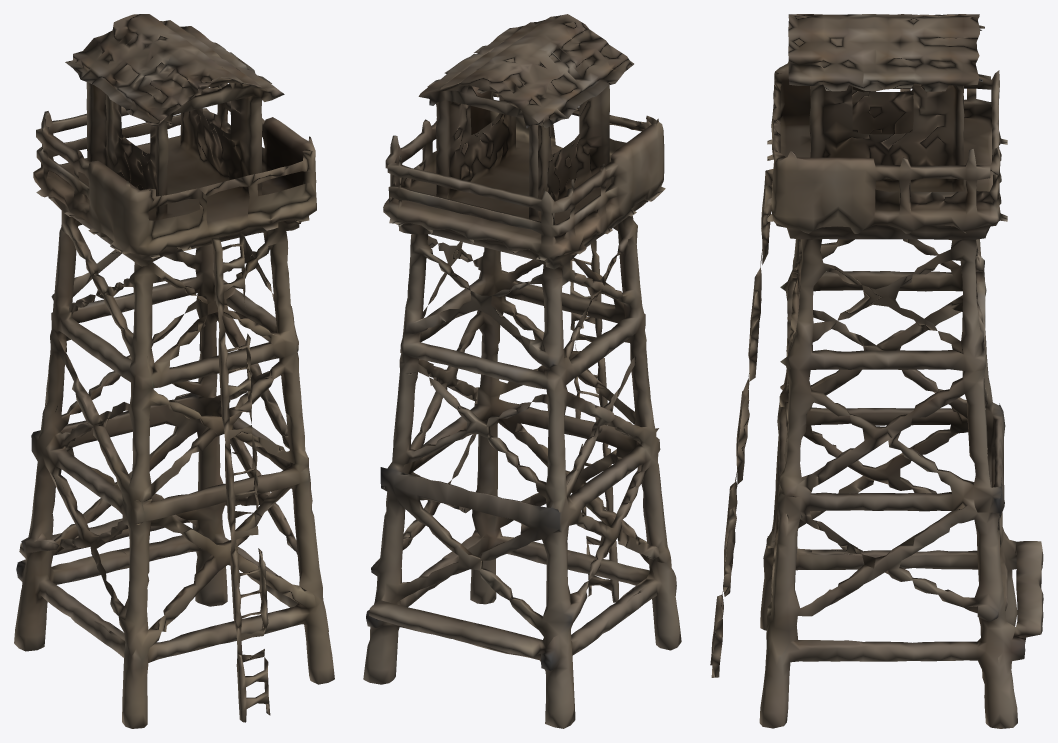
Rendered from wachturm.glb.
The picture shows the model from 3 angles, left to right: view 1: azimuth 30°, elevation 25°; view 2: azimuth 150°, elevation 25°; view 3: azimuth 270°, elevation 25°; orthographic projection. The views are drawn at different scales.
Size of the model in its own units: 0.6672 by 1.89 by 0.8648.
